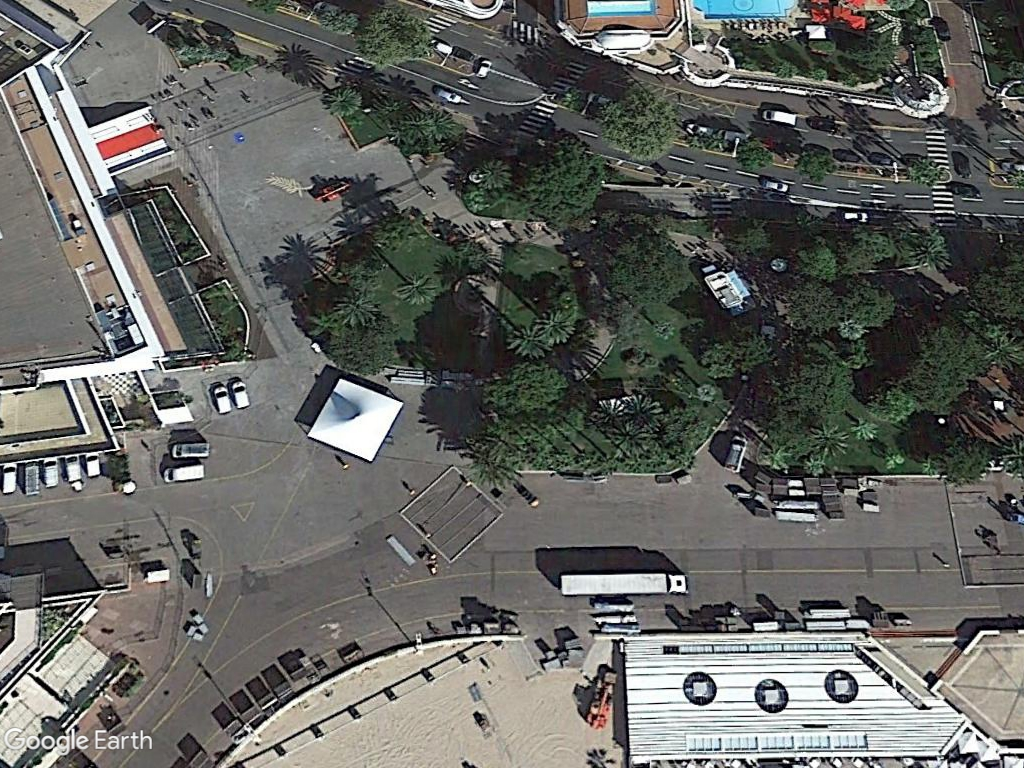truck: (550, 567, 692, 599)
van: (159, 462, 212, 485), (206, 382, 233, 419), (232, 372, 251, 409)
